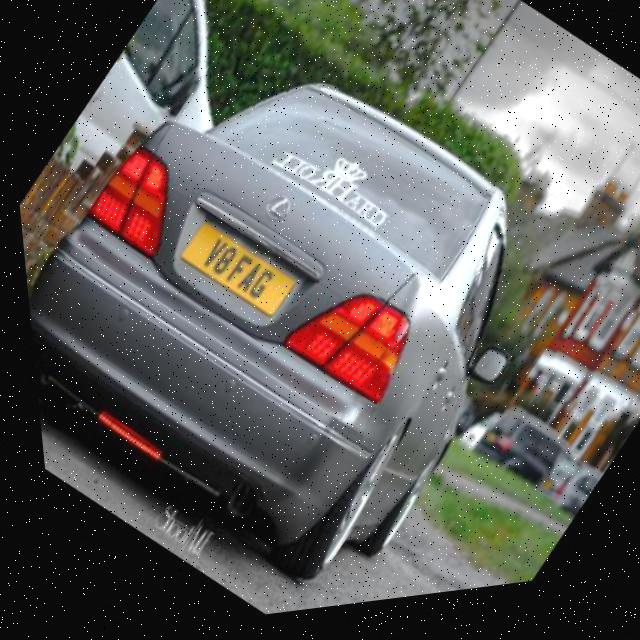license_plate: (170, 217, 292, 333)
